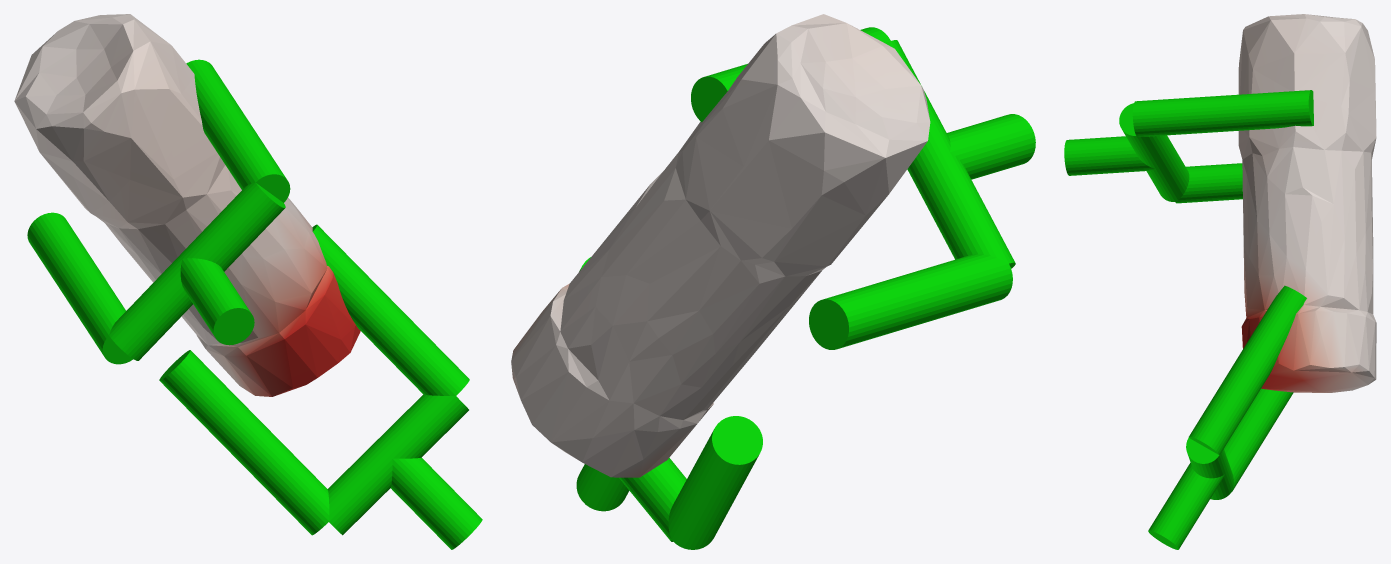
File: round_001_trial_000.obj
3 renders of one model, left to right at view 1: azimuth 30°, elevation 25°; view 2: azimuth 150°, elevation 25°; view 3: azimuth 270°, elevation 25°, orthographic. The views are drawn at different scales.
Visible parts, largest first — view 1: geometry_0, geometry_1, geometry_2; view 2: geometry_0, geometry_2, geometry_1; view 3: geometry_0, geometry_2, geometry_1.
Part boxes in pixels (x1,y1,x2,y2): geometry_0: [14, 14, 360, 396]; geometry_1: [159, 224, 482, 549]; geometry_2: [27, 59, 290, 364]; geometry_0: [511, 14, 930, 477]; geometry_2: [691, 27, 1035, 349]; geometry_1: [576, 257, 762, 549]; geometry_0: [1238, 14, 1376, 392]; geometry_2: [1064, 90, 1313, 203]; geometry_1: [1148, 285, 1306, 549].
Size of the model in its own units: 0.1012 by 0.1328 by 0.0866.
